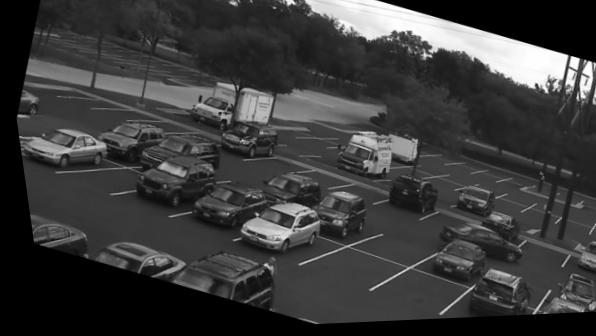empty: (297, 252, 394, 297), (344, 219, 428, 265), (375, 273, 458, 313), (54, 164, 136, 197), (503, 241, 562, 275), (495, 265, 539, 295), (291, 168, 346, 192), (417, 215, 469, 238), (334, 180, 379, 202), (243, 157, 301, 174), (546, 223, 589, 241), (71, 97, 126, 111), (209, 166, 251, 183), (511, 212, 553, 229), (526, 204, 563, 222), (417, 180, 456, 195), (143, 121, 190, 133), (497, 193, 532, 209), (296, 140, 343, 151), (556, 215, 590, 230), (438, 173, 472, 188), (489, 201, 522, 216), (425, 190, 451, 208), (103, 112, 153, 121), (470, 185, 504, 198), (387, 169, 426, 180), (571, 204, 596, 221), (409, 165, 444, 177), (495, 180, 530, 192), (467, 173, 499, 184), (504, 219, 527, 234), (444, 166, 474, 176), (419, 158, 451, 167), (582, 234, 596, 247), (585, 223, 596, 234)
occupied: (160, 252, 271, 315), (231, 202, 319, 261), (180, 181, 262, 232), (133, 157, 210, 210), (82, 241, 181, 280), (450, 272, 525, 321), (18, 130, 102, 168), (418, 242, 477, 287), (215, 119, 273, 163), (23, 211, 79, 256), (96, 123, 158, 163), (331, 135, 386, 180), (307, 196, 360, 241), (379, 178, 432, 219), (143, 136, 213, 165), (254, 176, 316, 207), (553, 280, 592, 317), (472, 215, 513, 249), (532, 296, 585, 319), (450, 190, 488, 221), (569, 248, 596, 279), (14, 90, 36, 115)
